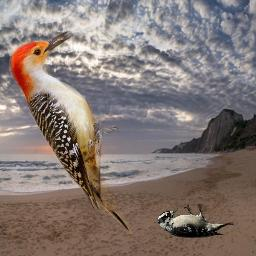Woodpecker: (9, 30, 133, 236), (158, 204, 234, 238)
